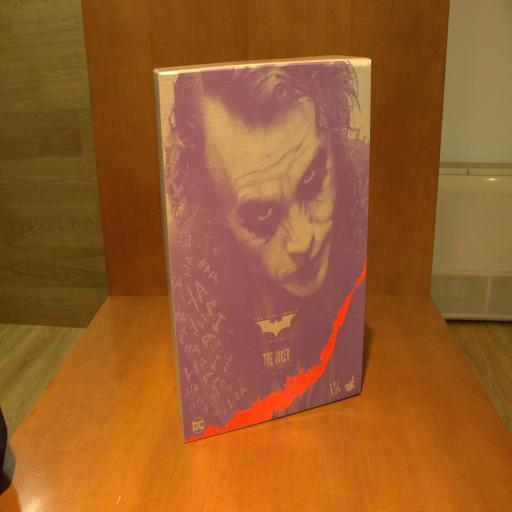Joker: (155, 54, 372, 442)
